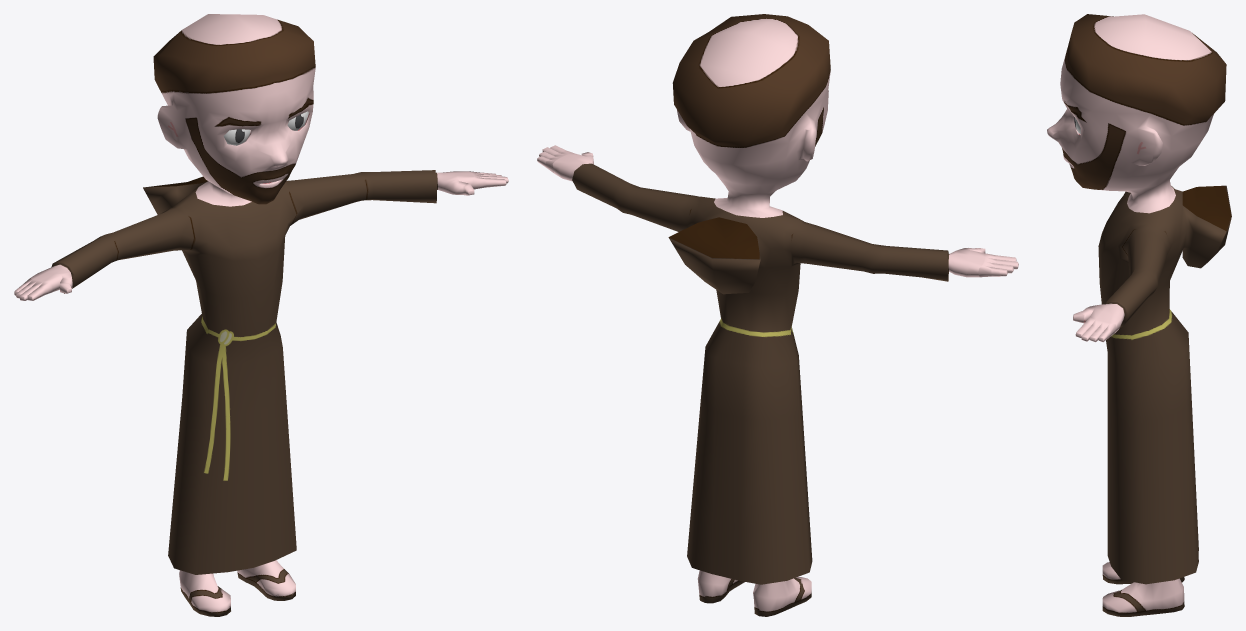
File: Friar.fbx
The picture shows the model from 3 angles, left to right: view 1: azimuth 30°, elevation 25°; view 2: azimuth 150°, elevation 25°; view 3: azimuth 270°, elevation 25°; orthographic projection. The views are drawn at different scales.
Parts seen in each view (by area): view 1: Friar; view 2: Friar; view 3: Friar.
Part boxes in pixels (x1,y1,x2,y2): Friar: (14,14,508,616); Friar: (537,14,1018,616); Friar: (1047,14,1231,616).
Bounding box in the file's own units: 2.34 × 0.7749 × 2.65.
1 material, 1 textured.
